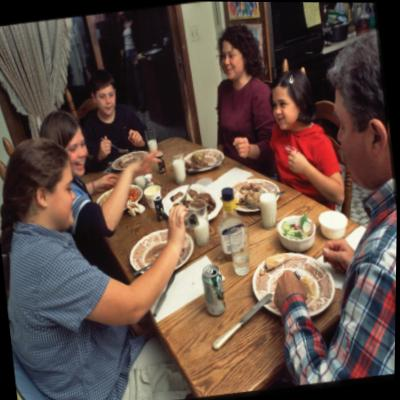happy: (48, 160, 82, 228), (64, 130, 91, 175), (219, 41, 245, 81), (272, 90, 296, 130)
netural: (95, 83, 117, 114)
